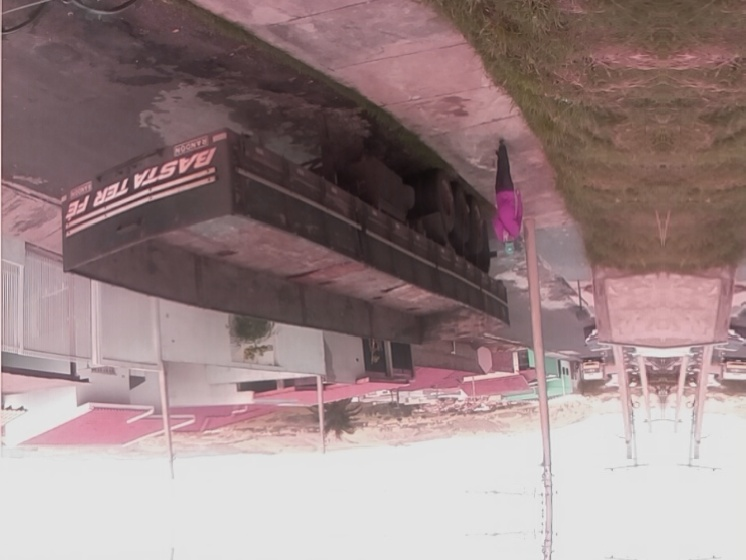person: (488, 139, 524, 257)
